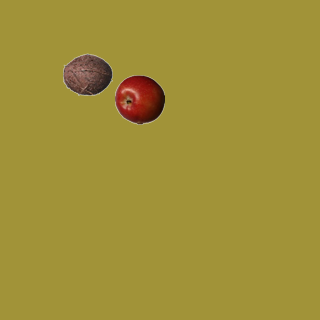Apple Braeburn: (114, 74, 164, 124)
Cocos: (62, 49, 112, 99)
